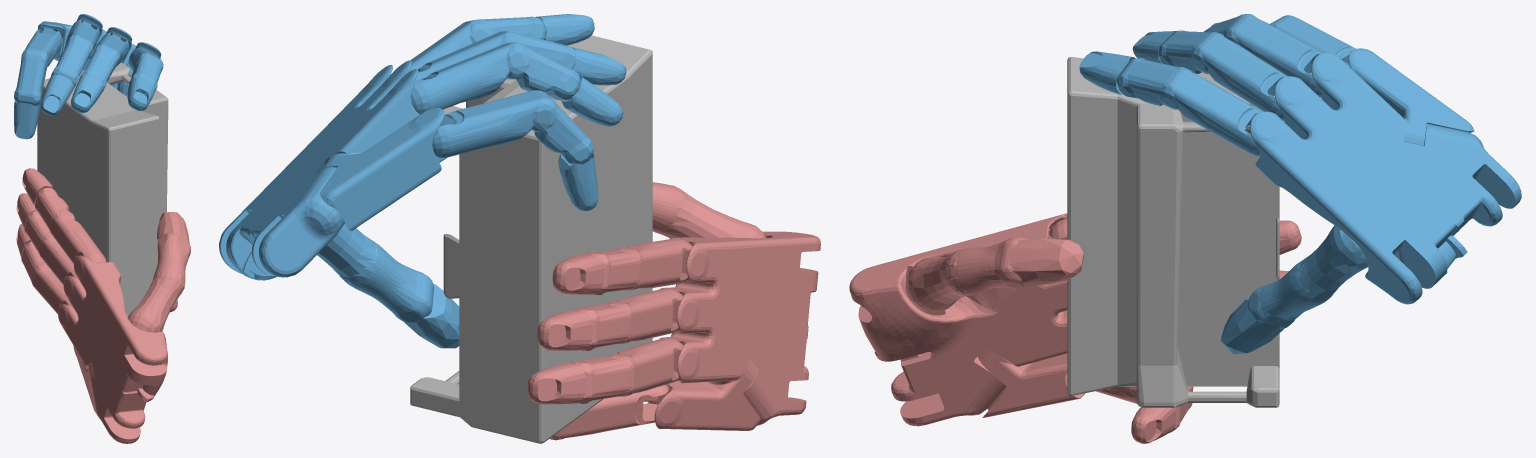
The model's file is Piano_mesh.glb.
3 renders of one model, left to right at view 1: azimuth 30°, elevation 25°; view 2: azimuth 150°, elevation 25°; view 3: azimuth 270°, elevation 25°, orthographic. The views are drawn at different scales.
Visible parts, largest first — view 1: geom_2, geom_0, geom_1; view 2: geom_1, geom_2, geom_0; view 3: geom_1, geom_0, geom_2.
Boxes of the visible parts, bbox=[...] form: geom_2: bbox=[16, 168, 190, 443]; geom_0: bbox=[37, 63, 168, 315]; geom_1: bbox=[14, 14, 163, 139]; geom_1: bbox=[219, 14, 626, 348]; geom_2: bbox=[527, 182, 820, 440]; geom_0: bbox=[410, 35, 652, 443]; geom_1: bbox=[1079, 14, 1521, 353]; geom_0: bbox=[1067, 57, 1279, 407]; geom_2: bbox=[849, 213, 1301, 443].
Bounding box in the file's own units: 0.1651 × 0.2302 × 0.3113.
